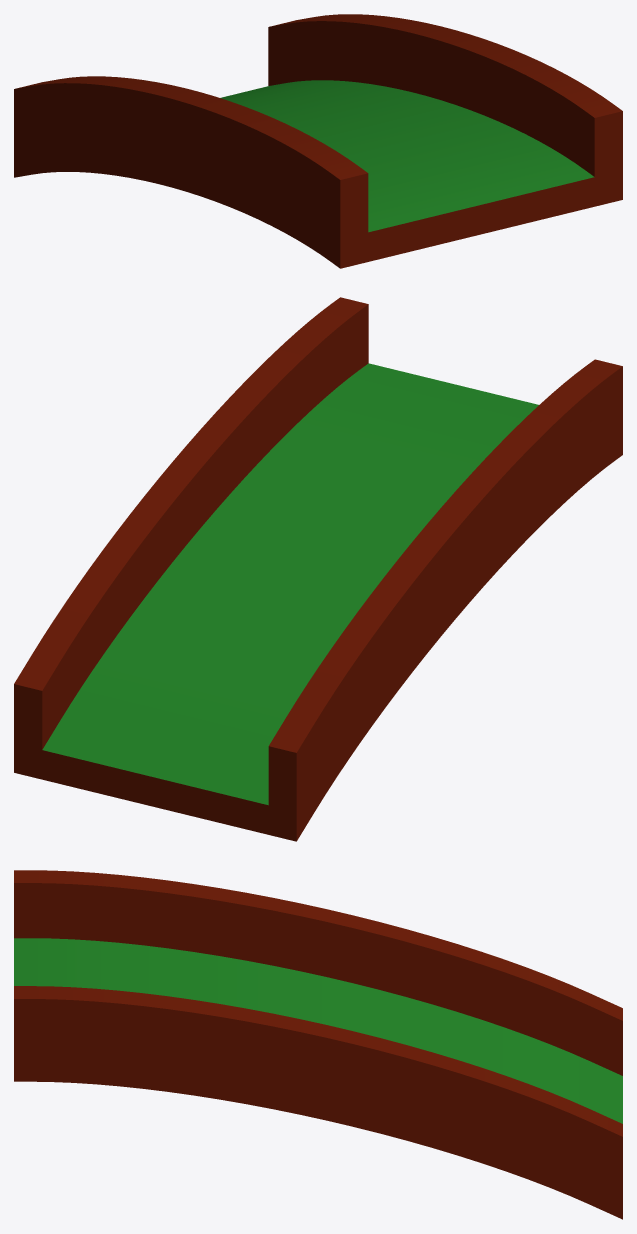
The model's file is RampTransitionDown.obj.
3 views of the same model, one above another, from view 1: azimuth 30°, elevation 25°; view 2: azimuth 150°, elevation 25°; view 3: azimuth 270°, elevation 25° (orthographic). The views are drawn at different scales.
Visible parts, largest first — view 1: RampTransitionDown; view 2: RampTransitionDown; view 3: RampTransitionDown.
Boxes of the visible parts, left/top/right/bottom form: RampTransitionDown: left=14, top=14, right=622, bottom=268; RampTransitionDown: left=14, top=297, right=622, bottom=841; RampTransitionDown: left=14, top=870, right=622, bottom=1219.
Size of the model in its own units: 2 by 1.6 by 4.
